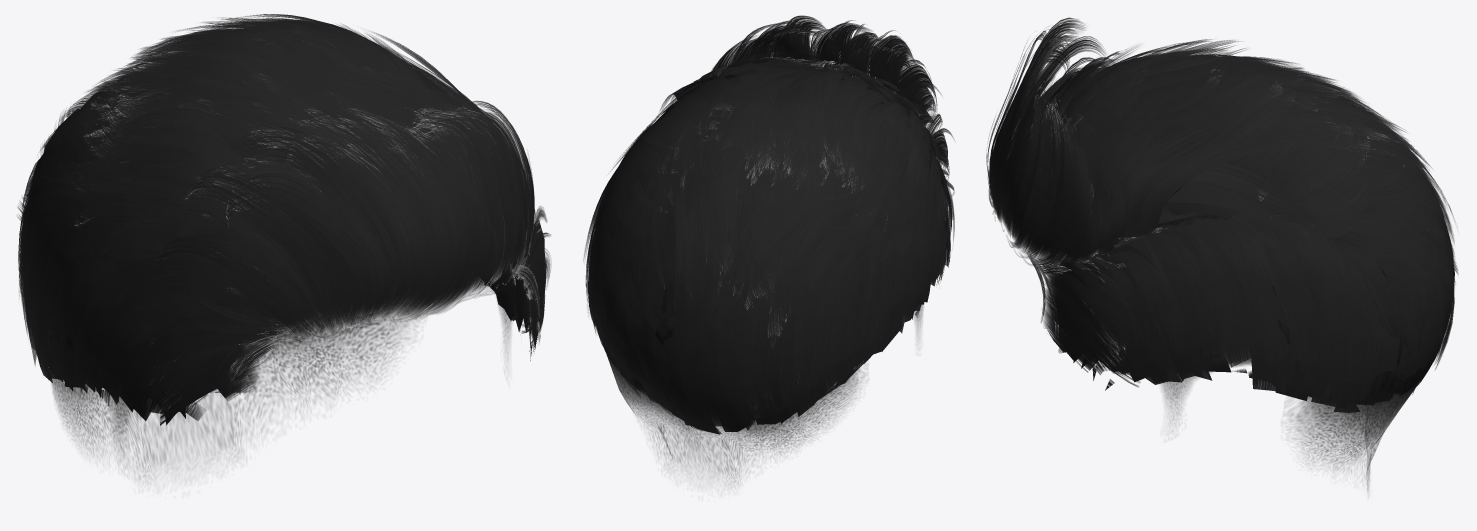
Rendered from oval_wavy_02 Quiff.glb.
The picture shows the model from 3 angles, left to right: view 1: azimuth 30°, elevation 25°; view 2: azimuth 150°, elevation 25°; view 3: azimuth 270°, elevation 25°; orthographic projection. The views are drawn at different scales.
Parts seen in each view (by area): view 1: Quiff.006, Scalp.018; view 2: Quiff.006, Scalp.018; view 3: Quiff.006, Scalp.018.
Part boxes in pixels (x1,y1,x2,y2): Quiff.006: [17, 14, 550, 425]; Scalp.018: [49, 263, 517, 479]; Quiff.006: [583, 15, 954, 434]; Scalp.018: [594, 73, 923, 483]; Quiff.006: [986, 17, 1458, 412]; Scalp.018: [1064, 97, 1454, 490].
Size of the model in its own units: 0.1919 by 0.2519 by 0.2337.
Materials: 2 (2 with a texture image).
